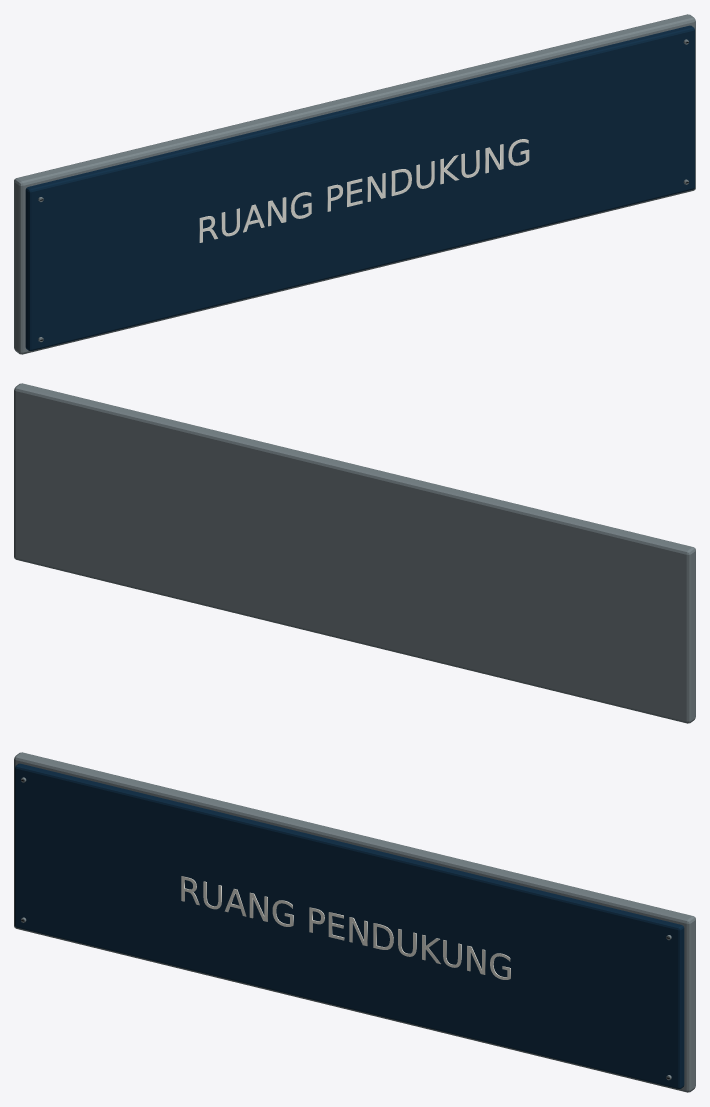
File: OAA_Papan_Ruang_Ruang_Pendukung.fbx
3 renders of one model, top to bottom at view 1: azimuth 30°, elevation 25°; view 2: azimuth 150°, elevation 25°; view 3: azimuth 330°, elevation 25°, orthographic.
Parts seen in each view (by area): view 1: Body; view 2: Body; view 3: Body.
Boxes of the visible parts, x1,y1,x2,y2 form: Body: (14, 14, 695, 354); Body: (14, 383, 695, 723); Body: (14, 752, 695, 1092).
Size of the model in its own units: 0.9 by 0.22 by 0.0312.
